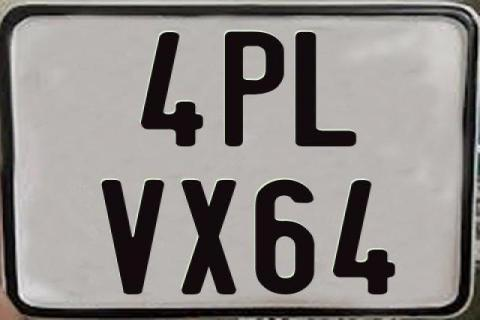0: (254, 178, 319, 296), (139, 30, 201, 148), (330, 180, 392, 295)
L: (294, 31, 359, 146)
P: (225, 30, 287, 148)
V: (101, 180, 169, 296)
X: (178, 179, 236, 296)
